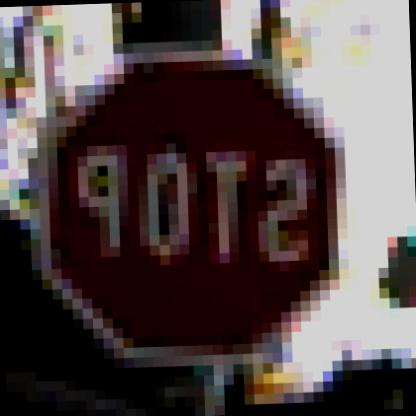stop: (31, 58, 348, 372)
